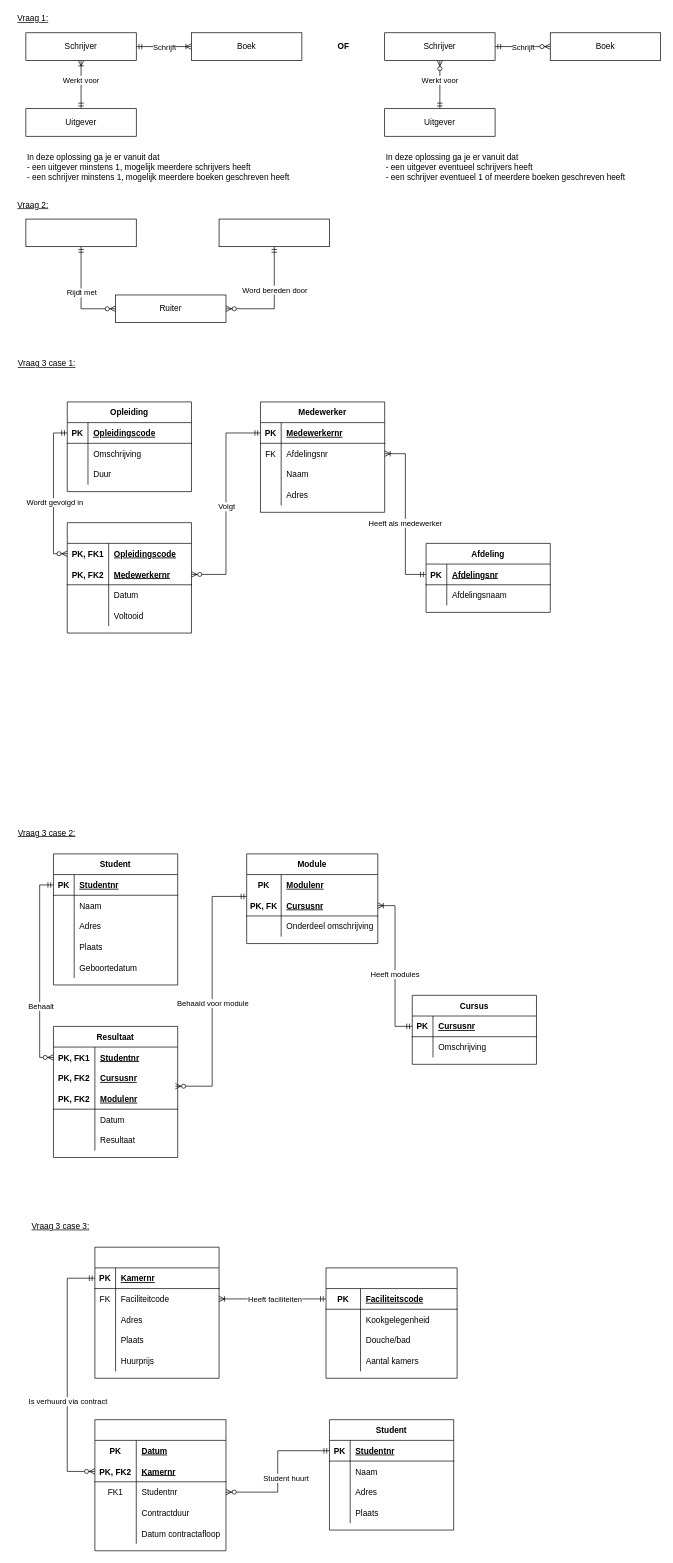
The diagram is 673 pixels wide and 1563 high, and some of its shapes have lost their labels. The shapes that lost their labels are listed below. From the top down, each one's box as (x1, y1, x2, y2) in pixels, then its label:
(25, 218, 136, 247): Cowboy
(218, 218, 329, 247): Paard
(67, 522, 191, 633): GevolgdeOpleiding
(94, 1246, 219, 1378): Kamerbestand
(325, 1267, 457, 1378): Faciliteiten
(94, 1419, 226, 1551): Huurcontract
